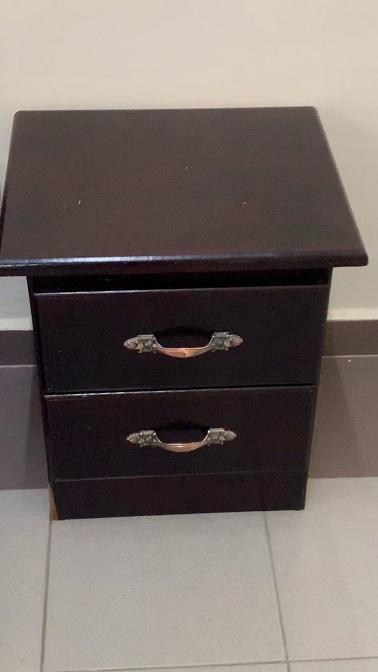cabinet_door: (35, 283, 318, 388), (46, 391, 309, 481)
handle: (127, 327, 245, 371), (126, 421, 240, 465)
